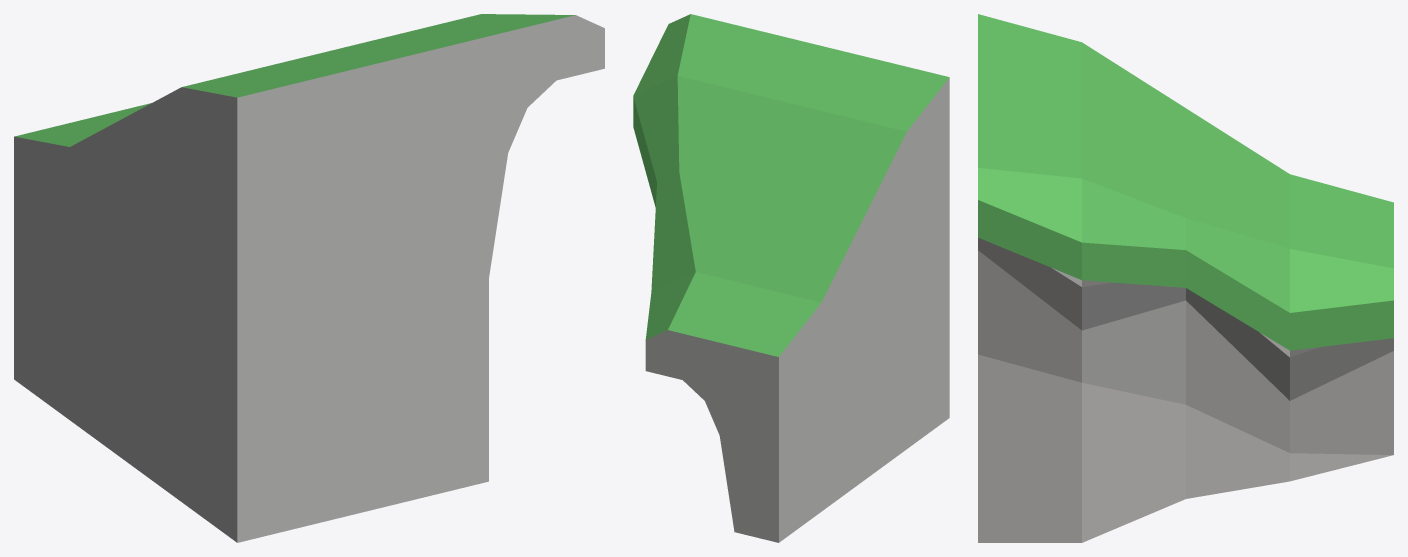
The model's file is Cliff_Top_Waterfall.glb.
3 renders of one model, left to right at view 1: azimuth 30°, elevation 25°; view 2: azimuth 150°, elevation 25°; view 3: azimuth 270°, elevation 25°, orthographic. The views are drawn at different scales.
Parts seen in each view (by area): view 1: object1; view 2: object1; view 3: object1.
Boxes of the visible parts, x1,y1,x2,y2 form: object1: (14, 14, 604, 542); object1: (633, 14, 949, 542); object1: (978, 14, 1393, 542).
Size of the model in its own units: 1.9 by 2.2 by 2.
